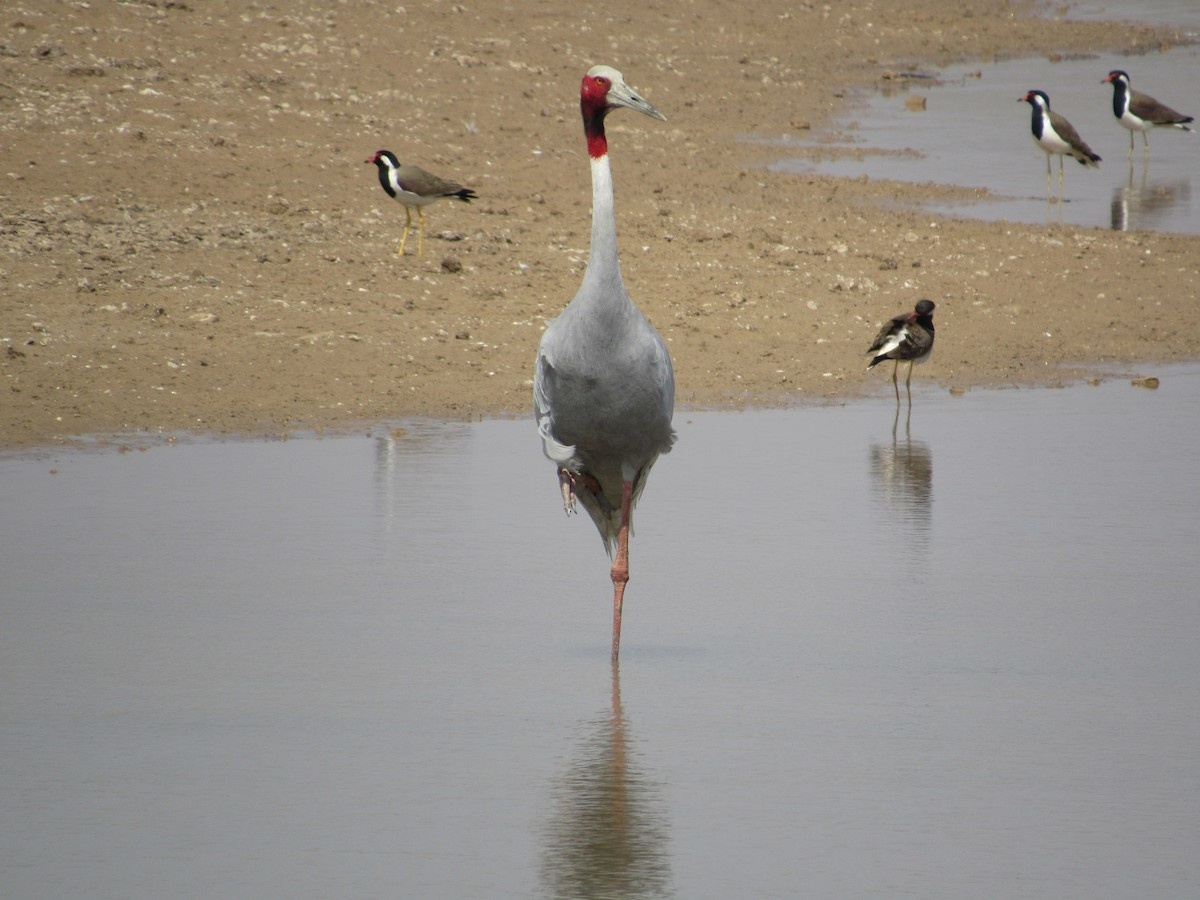crane: (554, 57, 681, 706)
